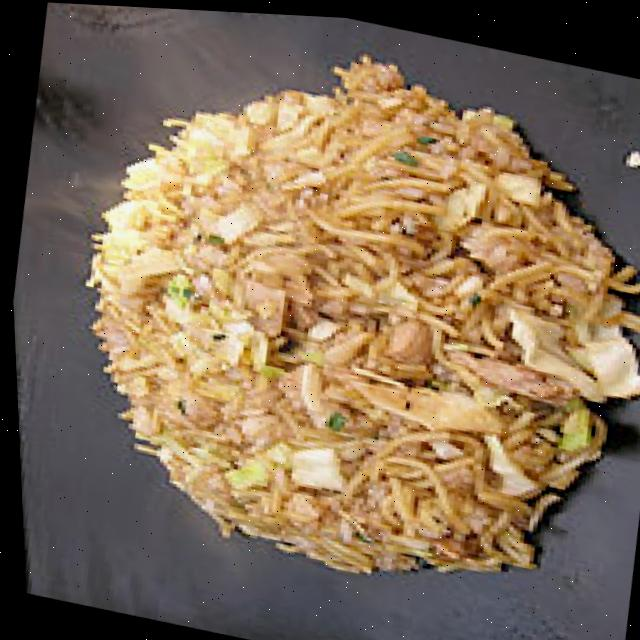面条主食: (0, 0, 640, 632)
